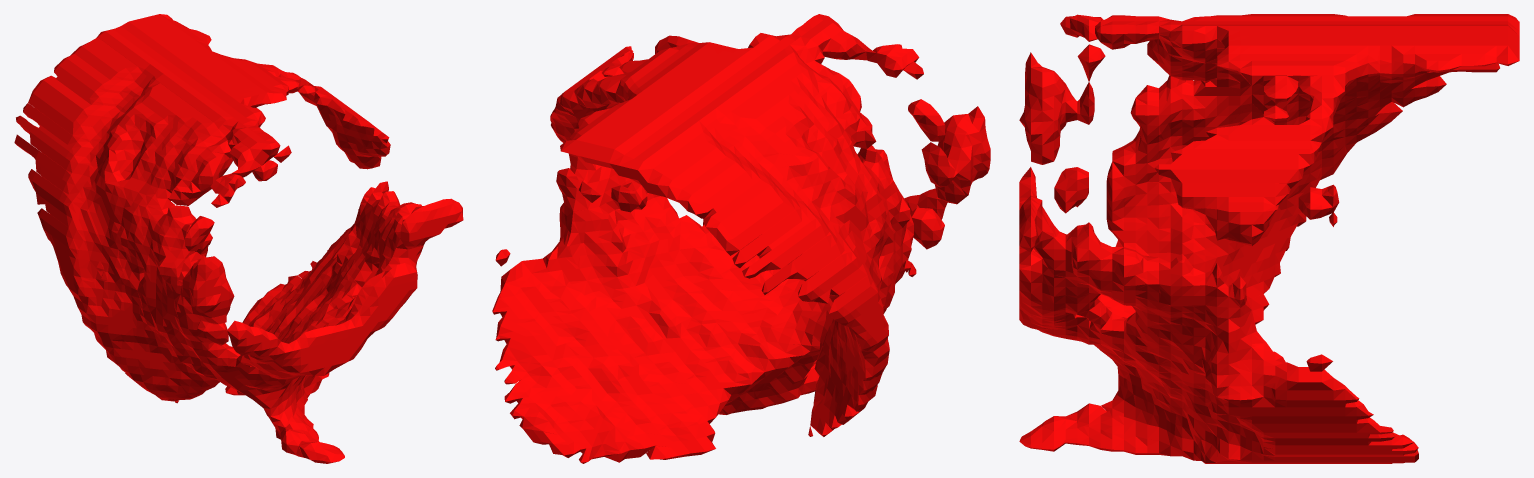
Rendered from B939XXXX-1_valve_11.obj.
3 renders of one model, left to right at view 1: azimuth 30°, elevation 25°; view 2: azimuth 150°, elevation 25°; view 3: azimuth 270°, elevation 25°, orthographic. The views are drawn at different scales.
Visible parts, largest first — view 1: 11_valve; view 2: 11_valve; view 3: 11_valve.
Part boxes in pixels (x1,y1,x2,y2): 11_valve: (14,14,463,463); 11_valve: (492,14,990,463); 11_valve: (1019,14,1519,463).
Bounding box in the file's own units: 77.98 × 76.97 × 85.95.
